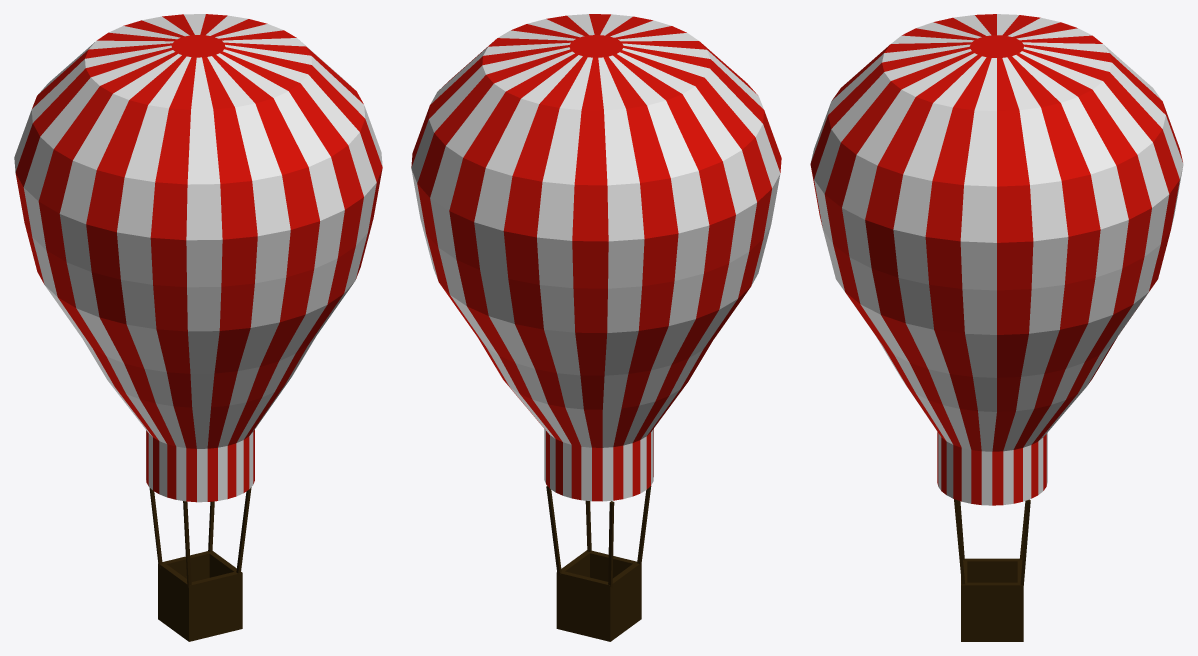
Rendered from air-balloon.dae.
3 renders of one model, left to right at view 1: azimuth 30°, elevation 25°; view 2: azimuth 150°, elevation 25°; view 3: azimuth 270°, elevation 25°, orthographic.
Visible parts, largest first — view 1: Cylinder, Cube; view 2: Cylinder, Cube; view 3: Cylinder, Cube.
Part boxes in pixels (bbox=[...]): Cylinder: bbox=[14, 14, 382, 502]; Cube: bbox=[158, 551, 242, 641]; Cylinder: bbox=[411, 14, 781, 501]; Cube: bbox=[556, 550, 641, 641]; Cylinder: bbox=[810, 14, 1183, 505]; Cube: bbox=[961, 558, 1023, 641].
Size of the model in its own units: 6.76 by 6.76 by 11.64.
